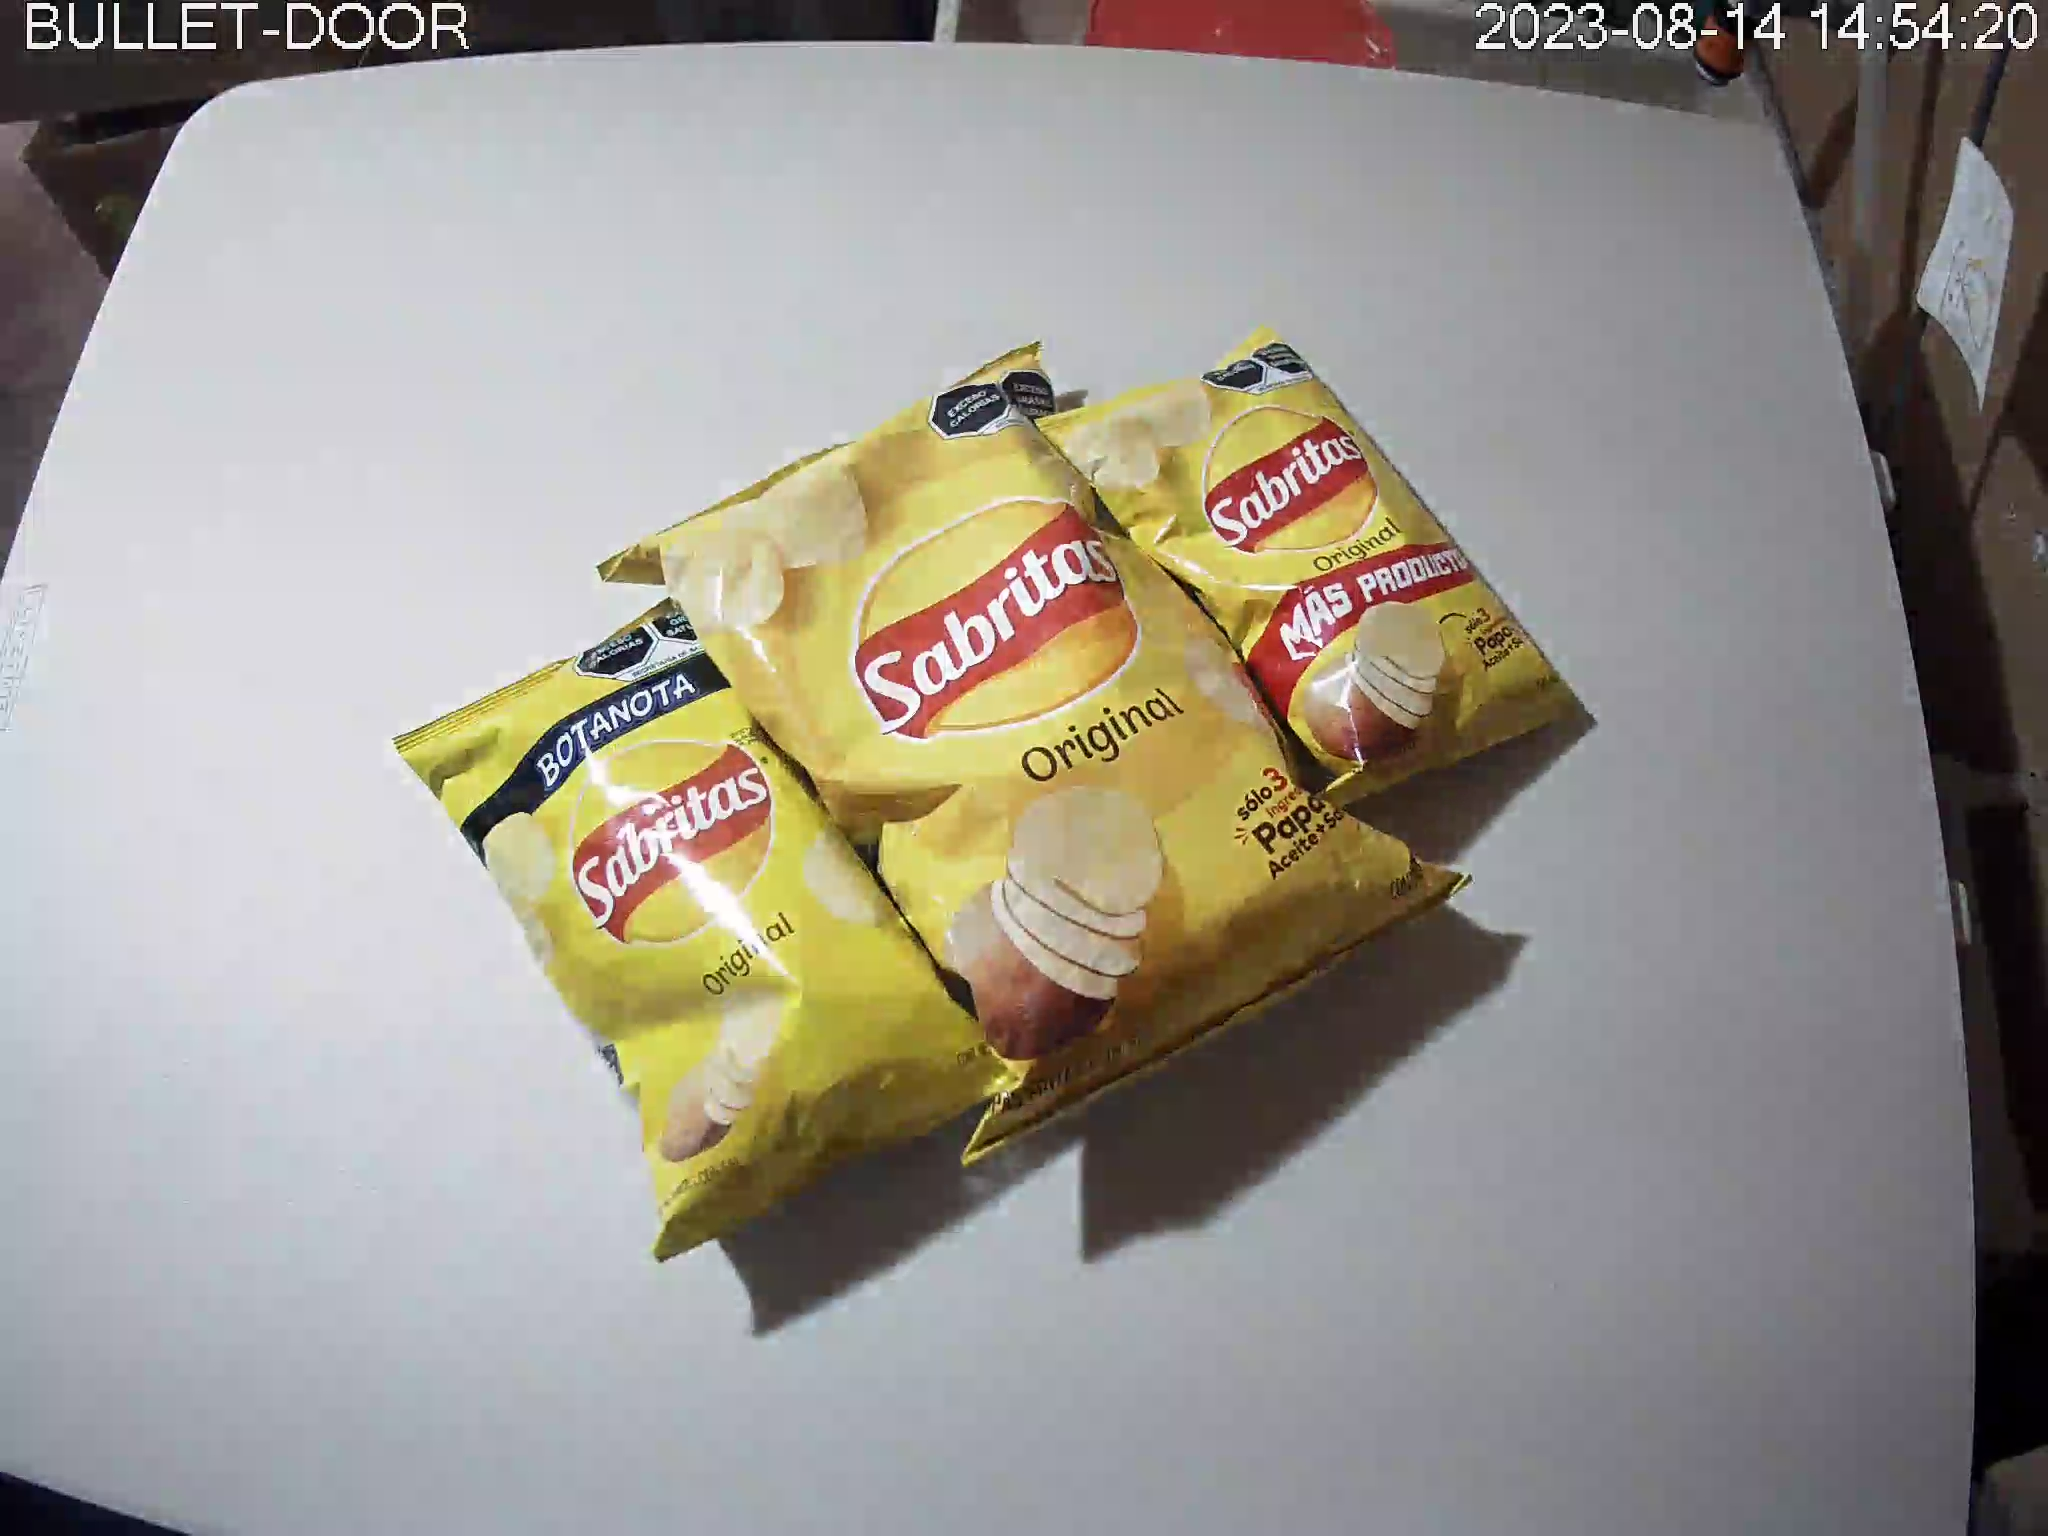Sabritas_160_F: (598, 339, 1472, 1171)
Sabritas_45_F: (1032, 328, 1587, 815)
Sabritas_64_F: (392, 587, 1043, 1262)
